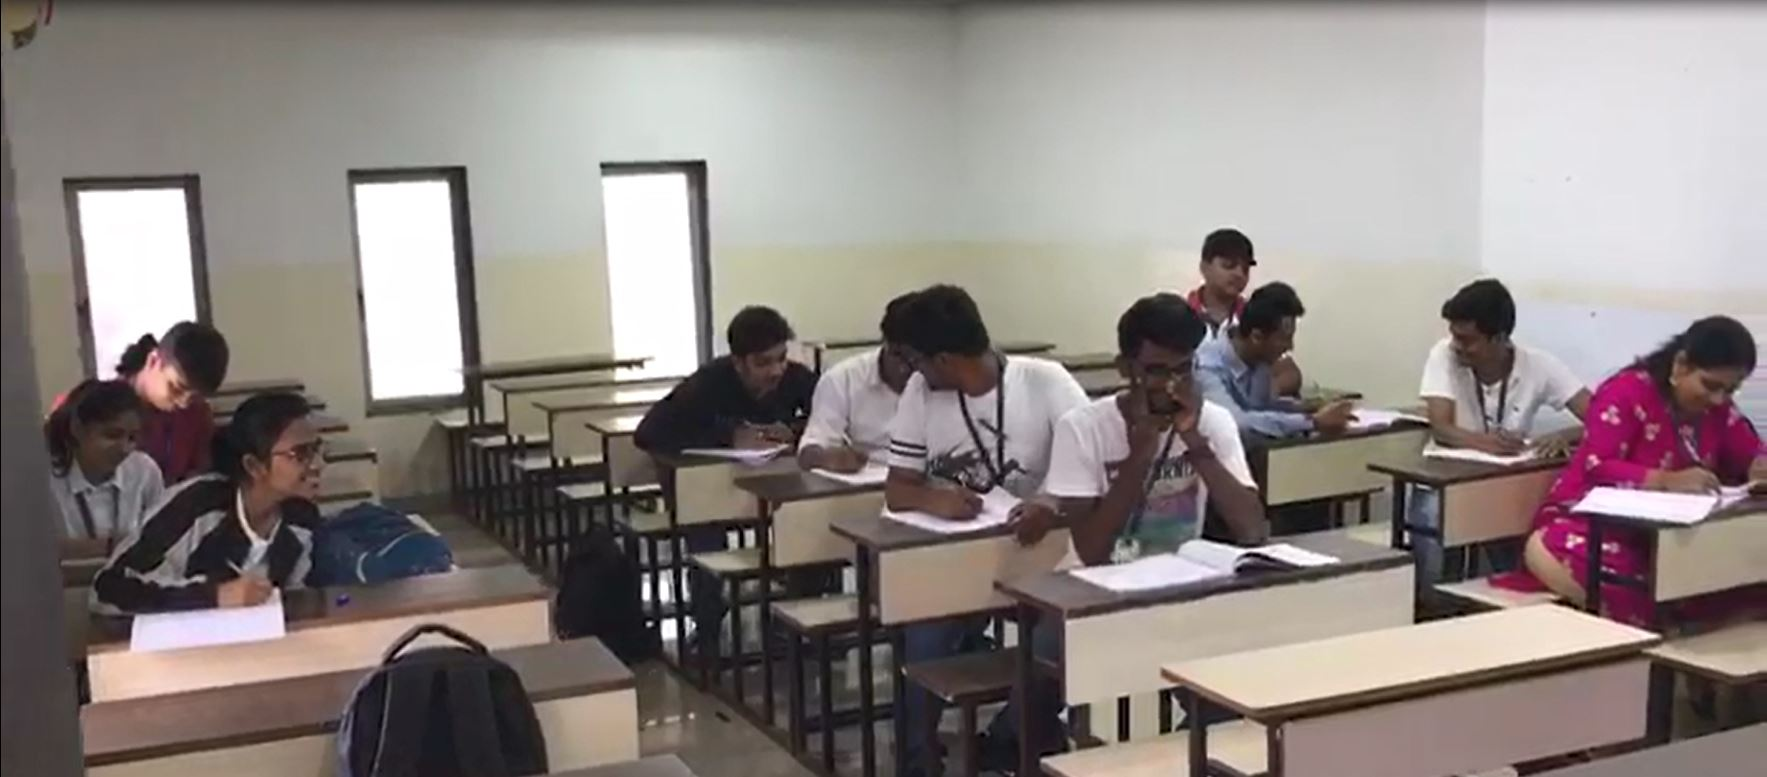gesture: (1106, 364, 1174, 467), (1158, 365, 1230, 465)
student: (1539, 308, 1760, 540), (32, 364, 189, 552), (1138, 224, 1300, 314), (133, 324, 232, 459)
studentcopying: (91, 391, 348, 624), (1043, 306, 1239, 551), (853, 296, 1070, 500), (1392, 283, 1588, 456), (640, 294, 822, 469), (1209, 282, 1391, 454)
